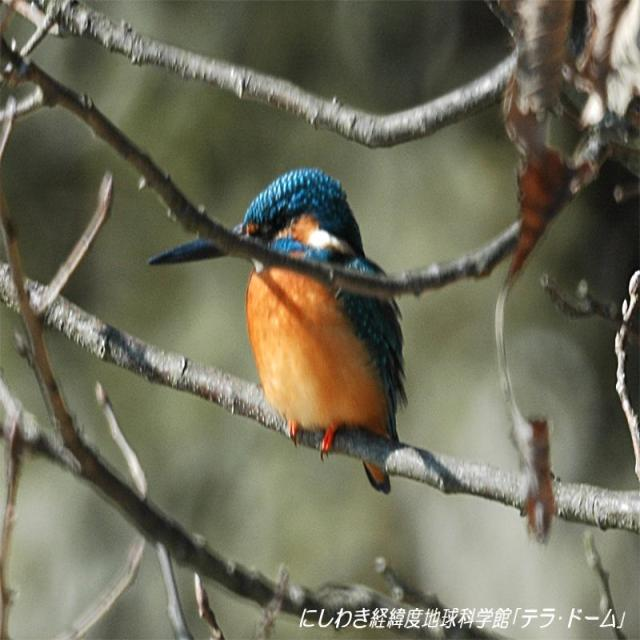bird: (234, 172, 416, 475)
